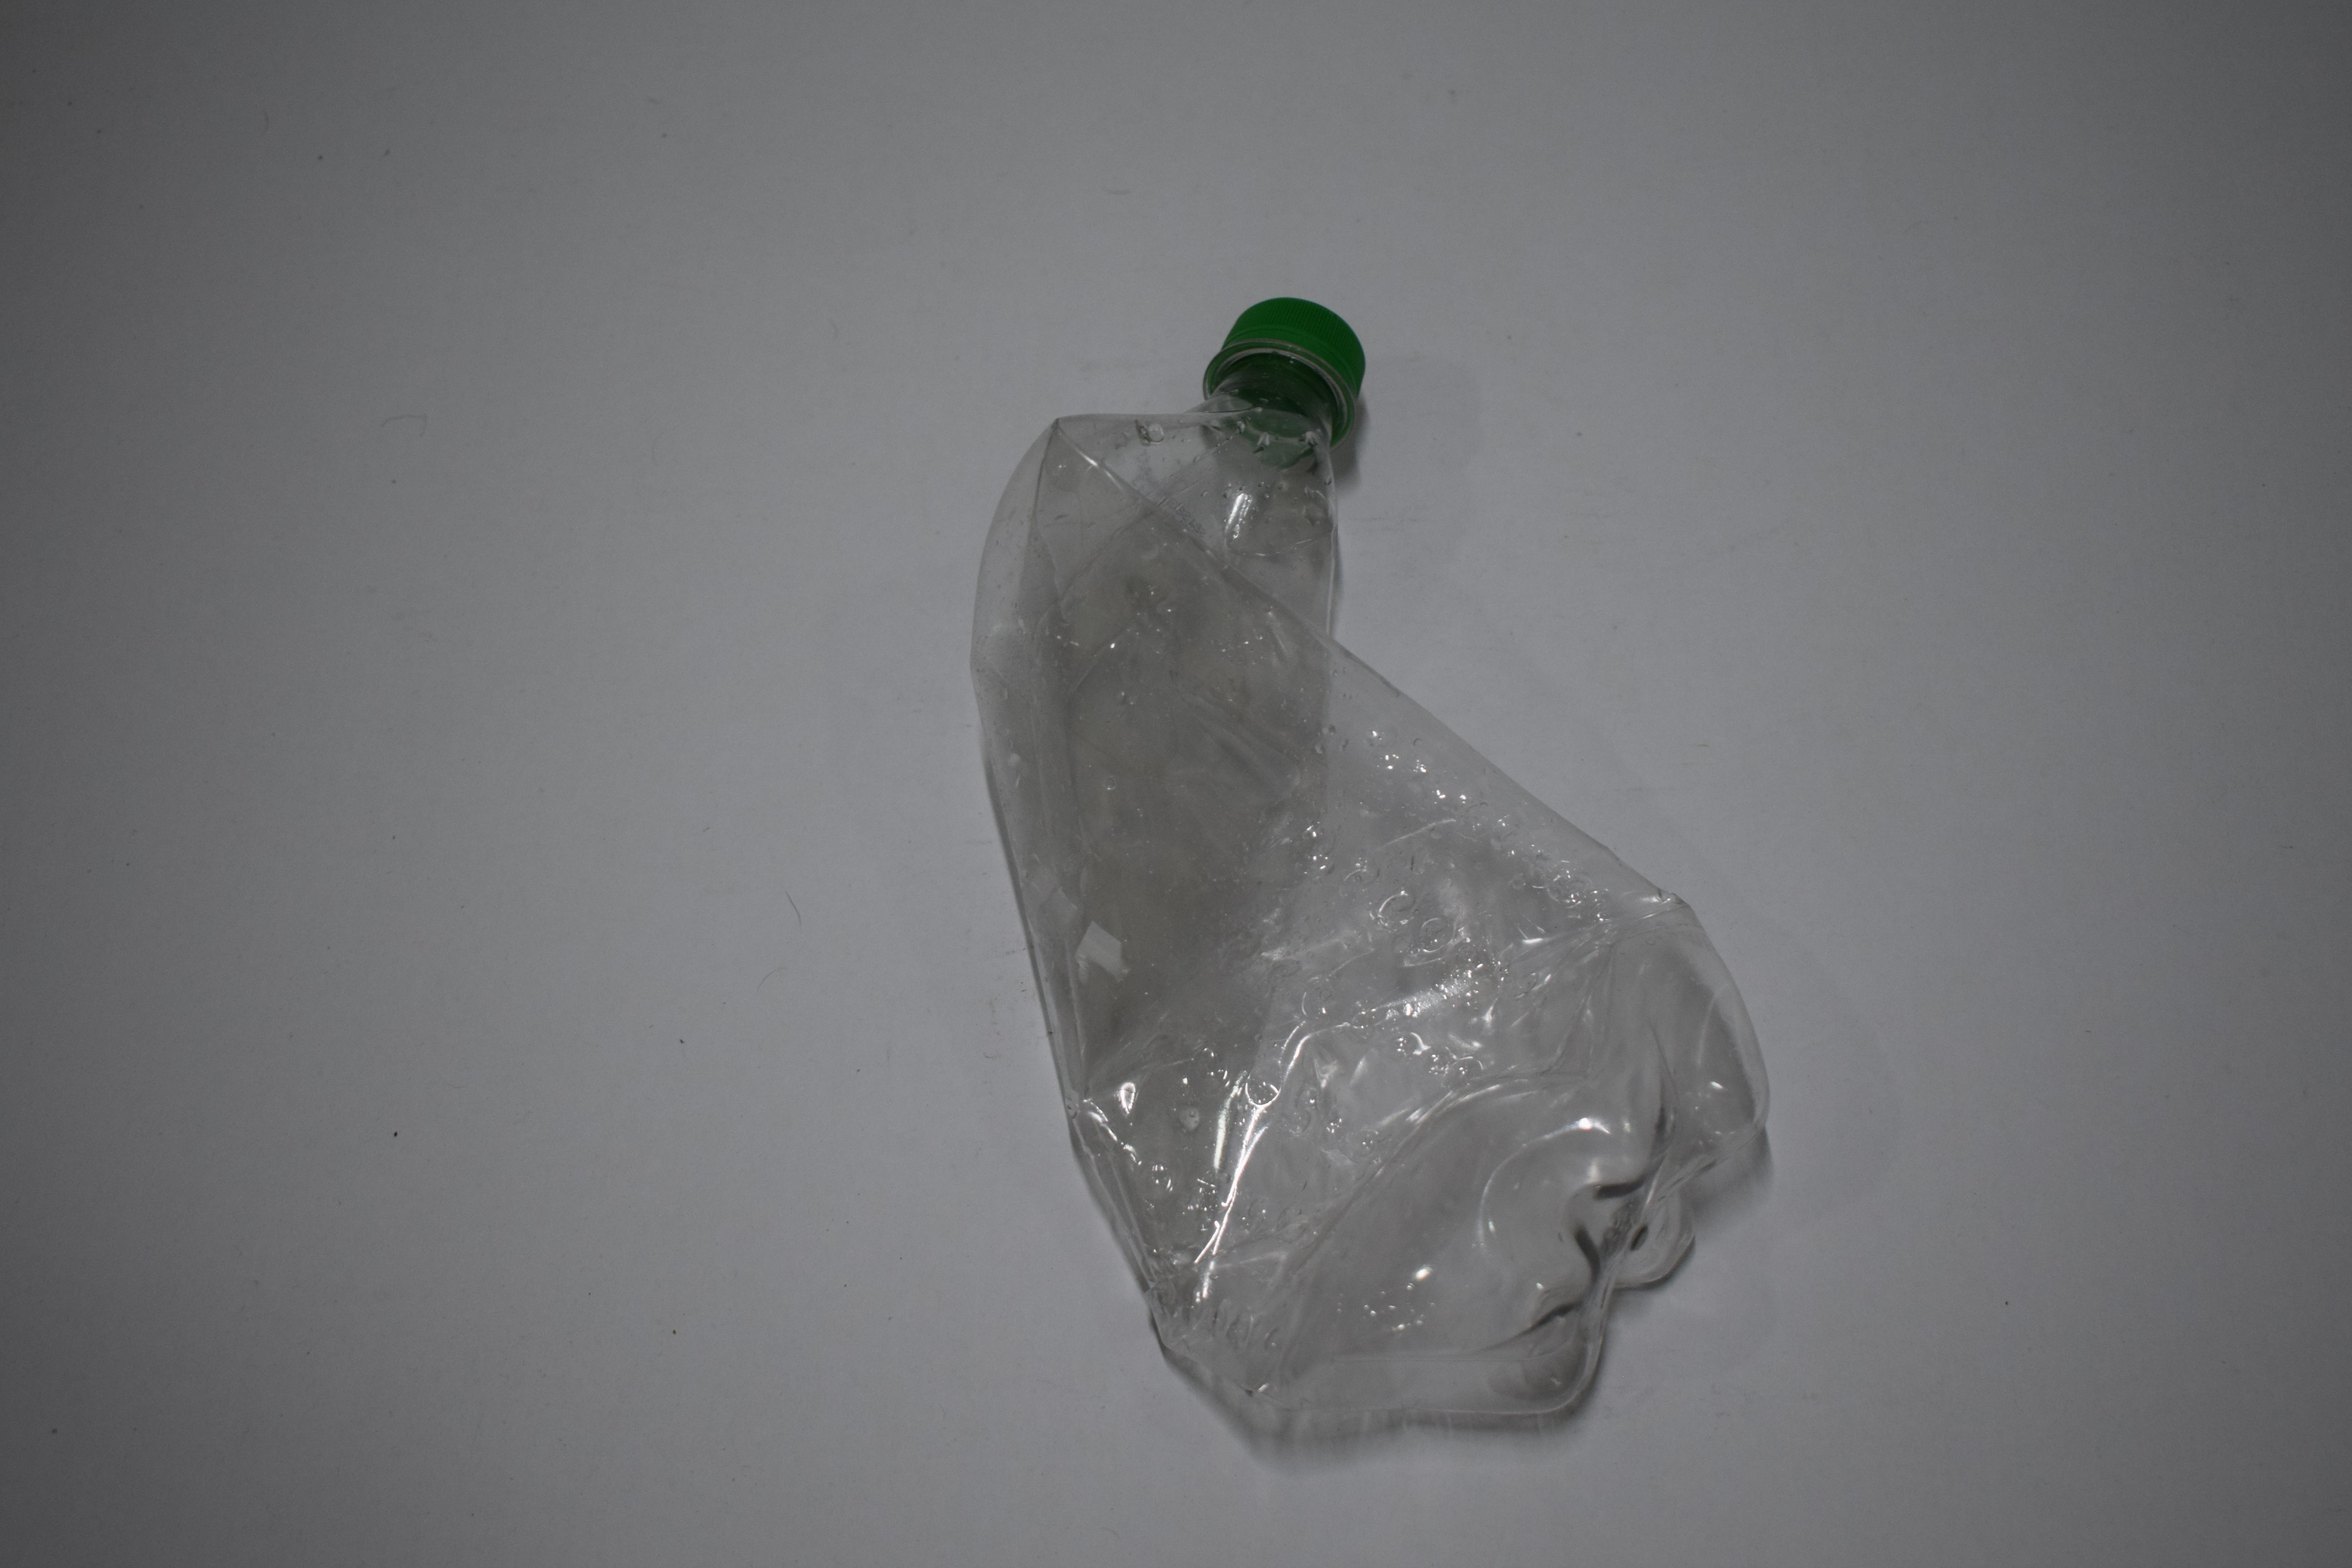bottle: (0, 0, 602, 576)
